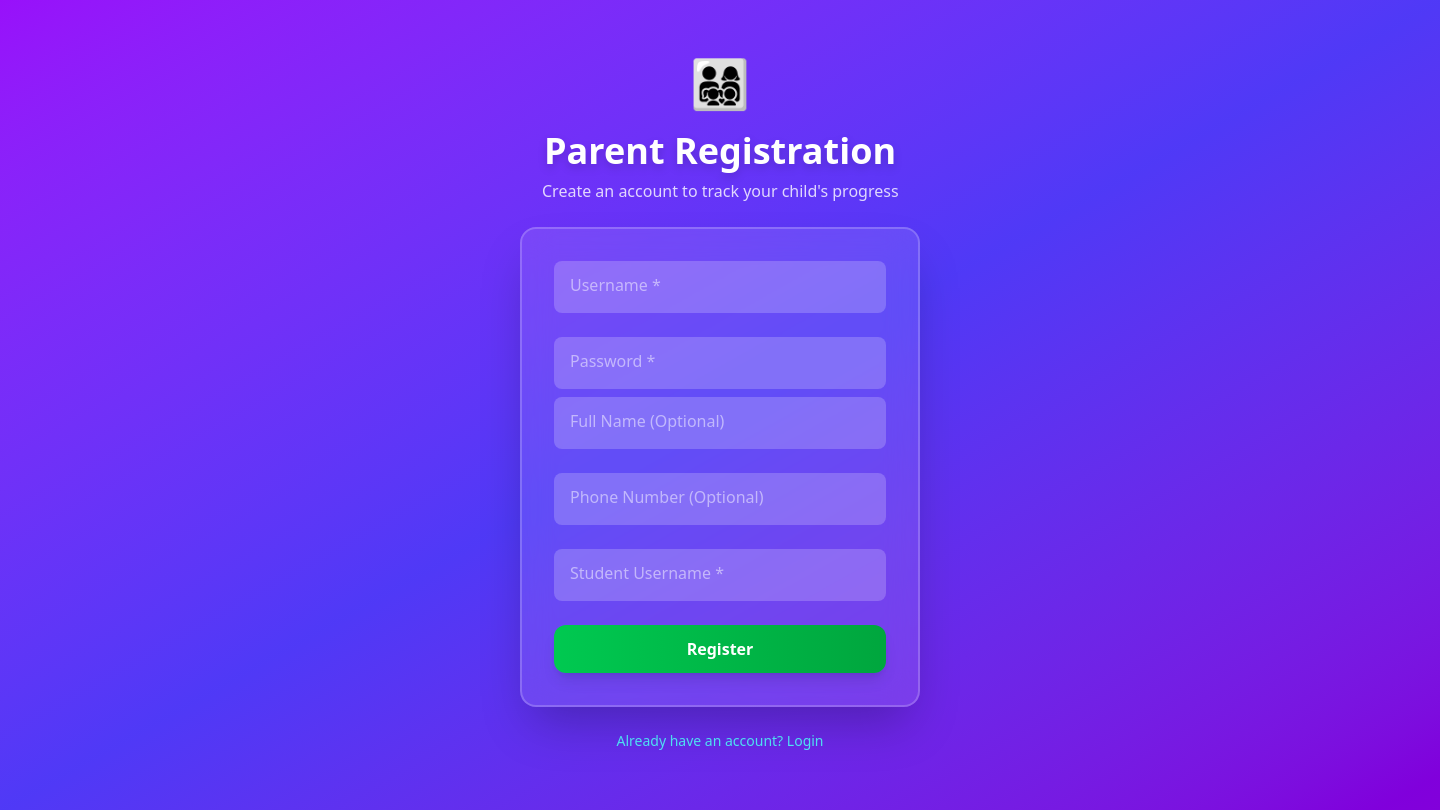
Test: ParentRegister › should show error message for invalid student username
In the field labelled "Username *": (720, 287) [554,261,886,313], type "parent1"
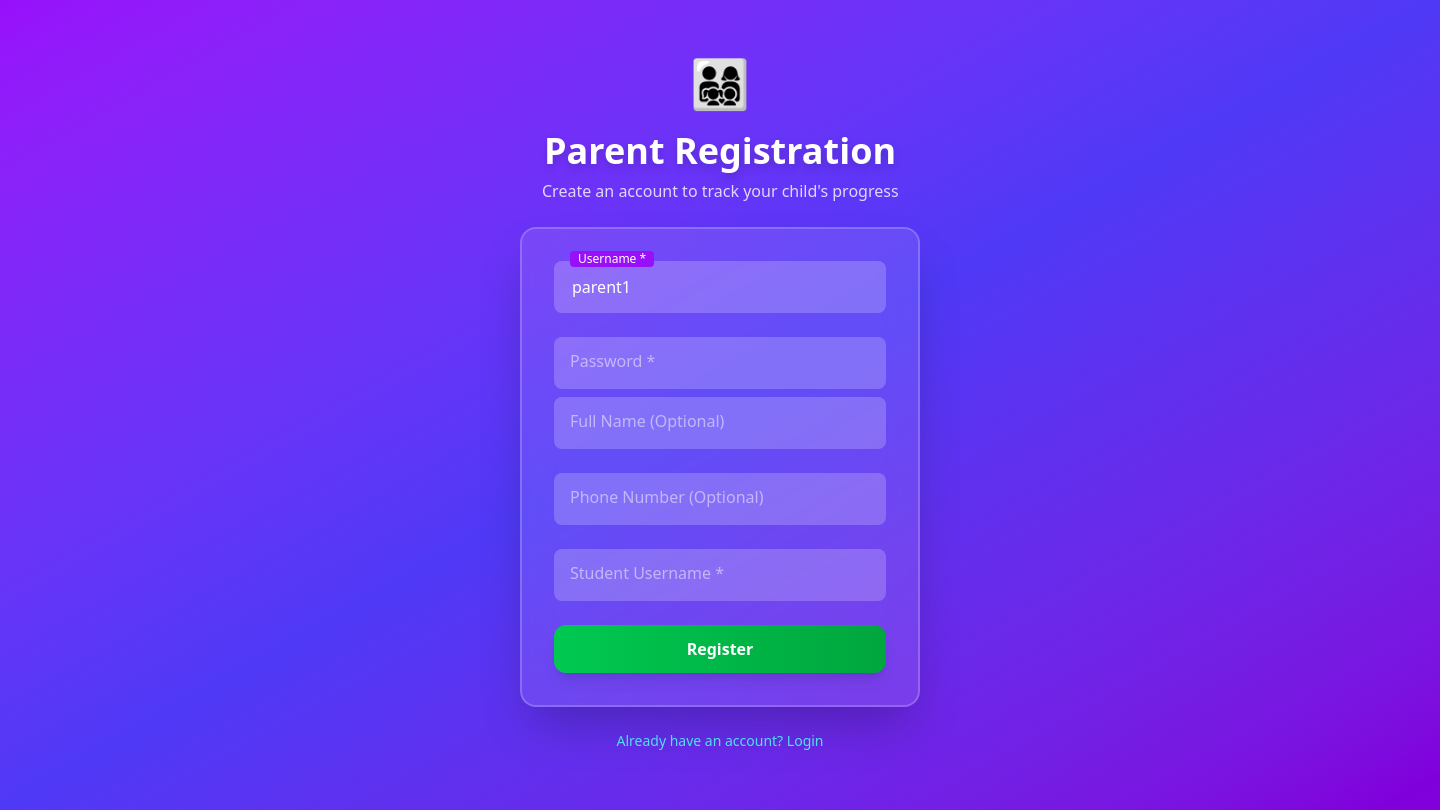
In the password field labelled "Password *": (720, 363) [554,337,886,389], type "password123"
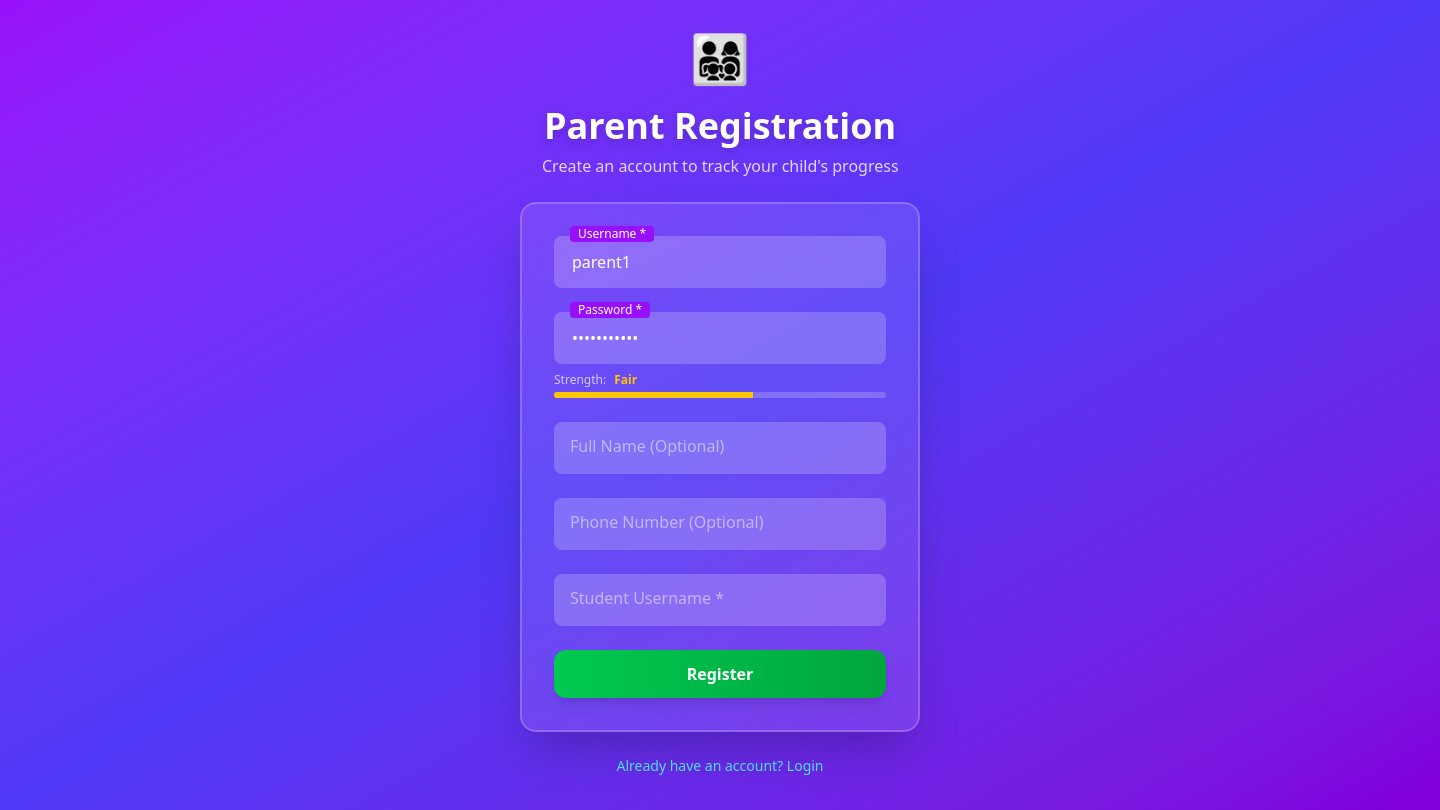
In the field labelled "Student Username *": (720, 600) [554,574,886,626], type "nonexistent"
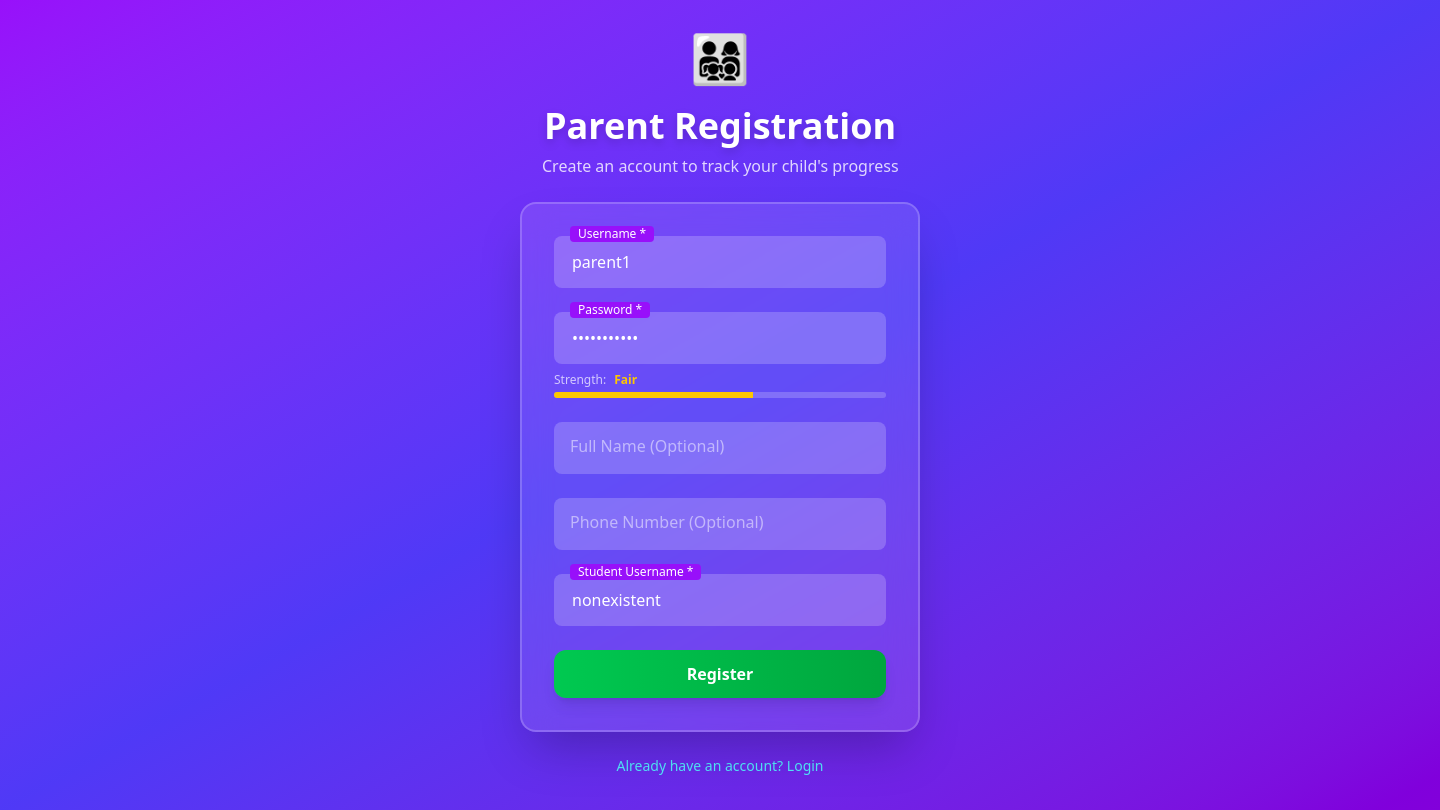
Click the button "Register": (720, 674) [554,650,886,698]
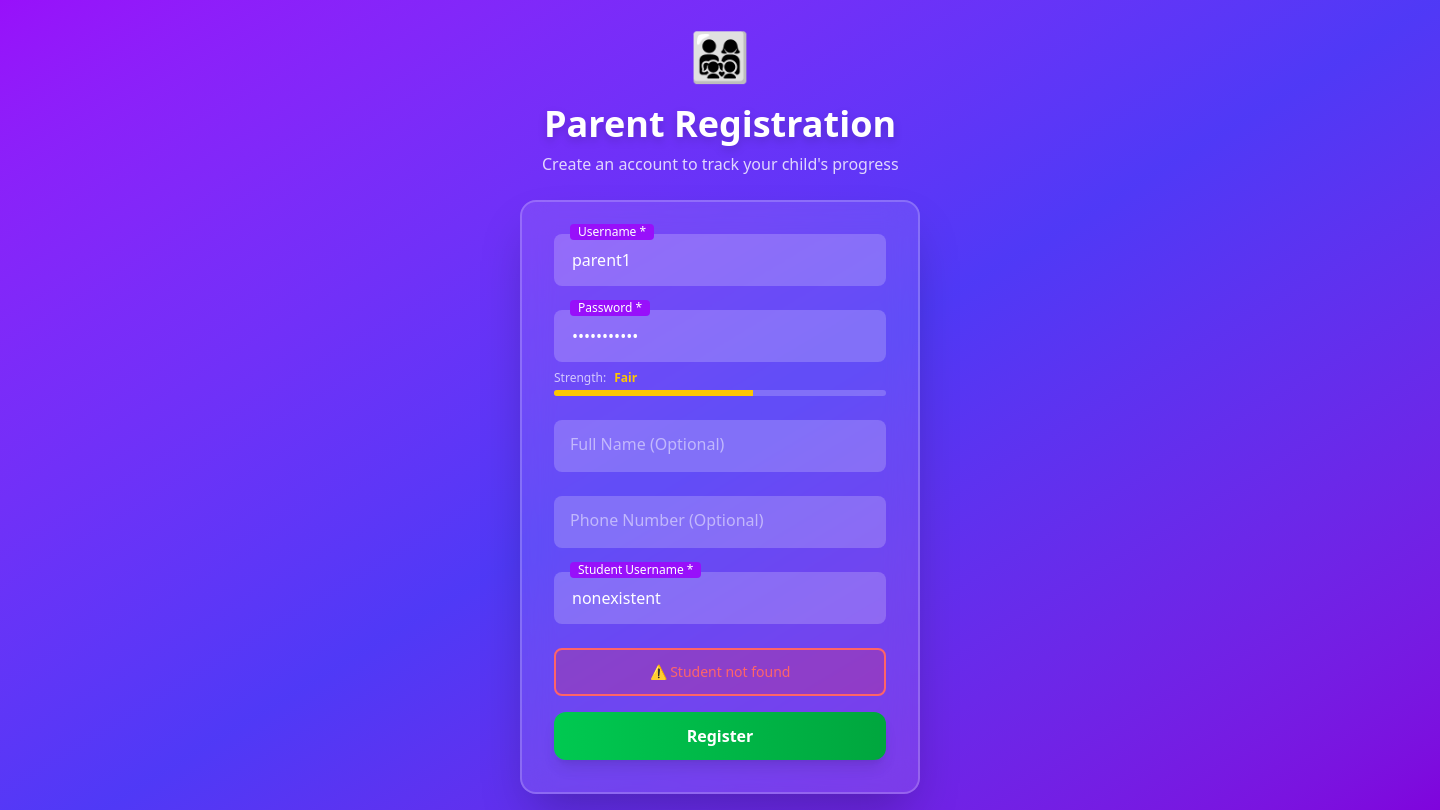
Expected: the text "⚠️ Student not found" is shown, [650,662,790,681]
